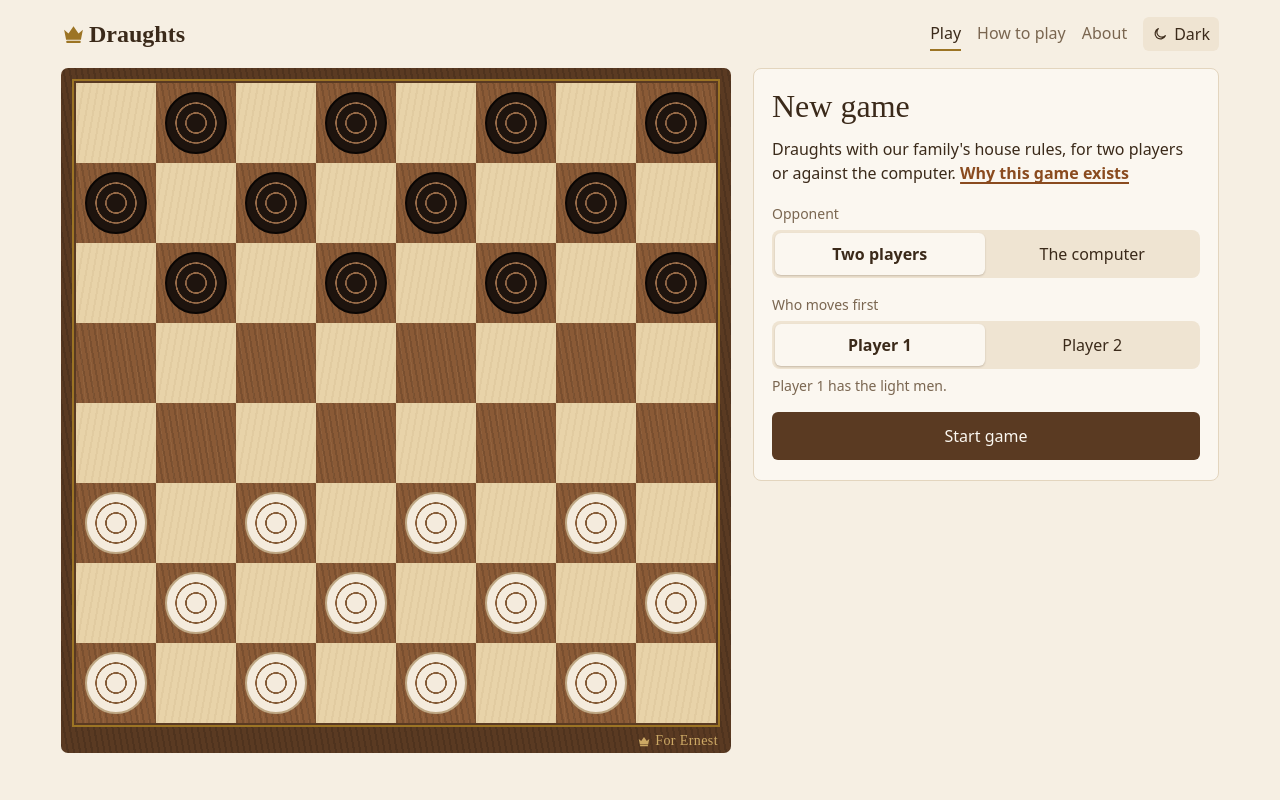
Show tips › removes the tips when the turn ends
The width and height of the screenshot is (1280, 800).
Click the button "Start game".
click(986, 436)  # box [772, 412, 1200, 460]
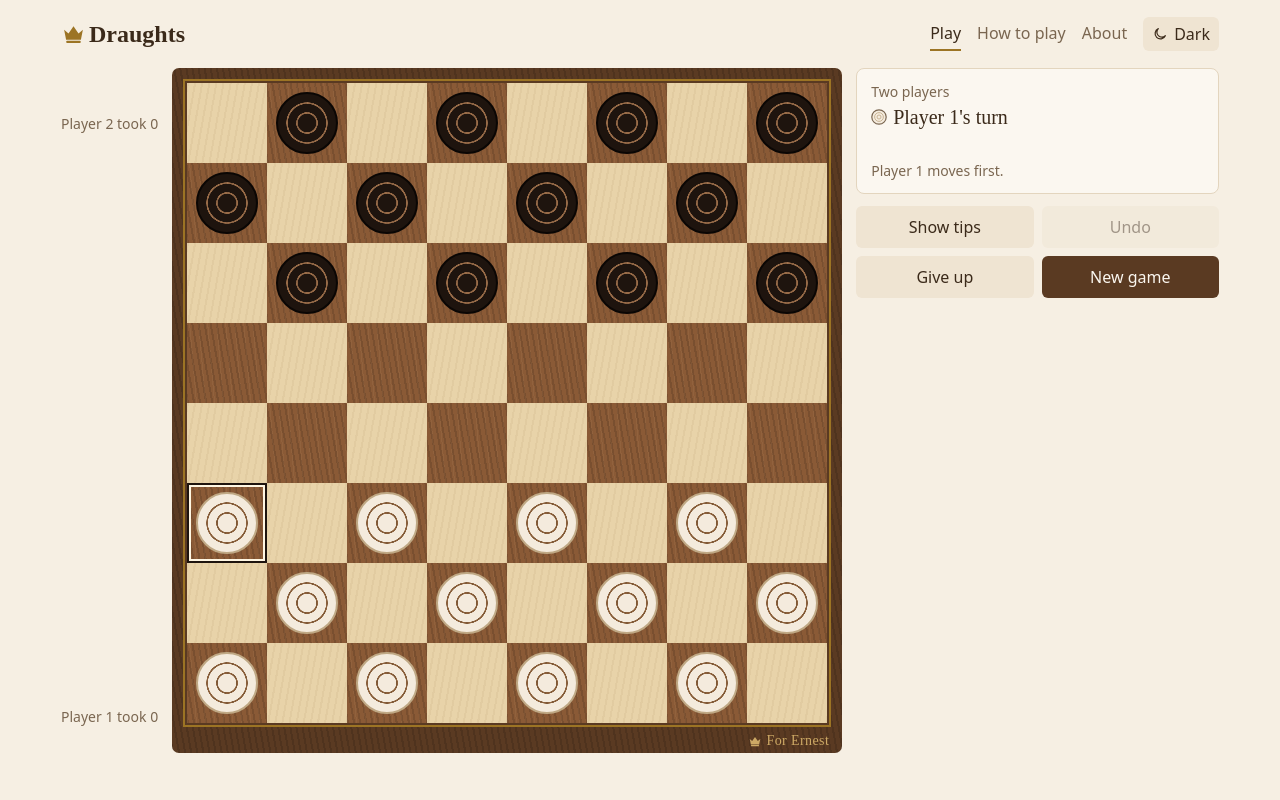
Click the button "Show tips".
click(945, 227)  # box [856, 206, 1034, 248]
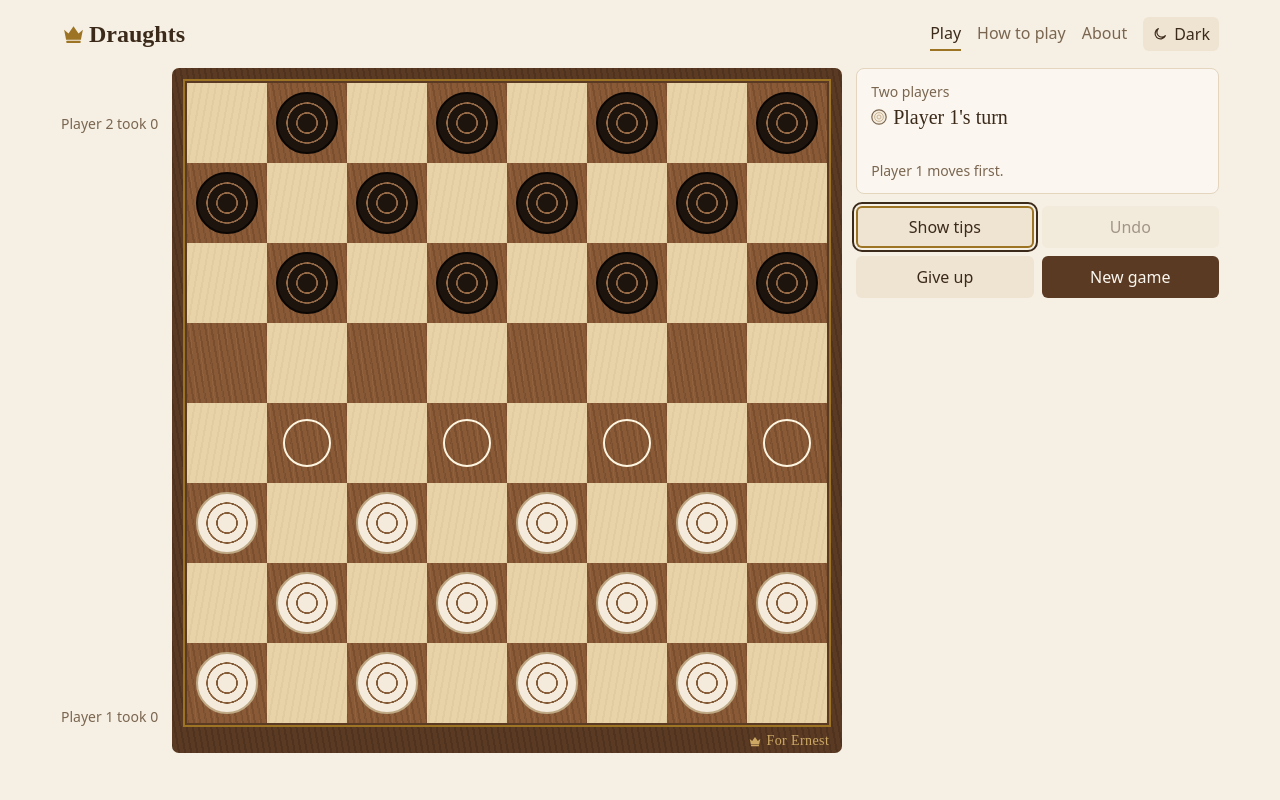
Click the cell named "Row 6, column 3, player 1's man".
click(387, 523)  # box [347, 483, 427, 563]
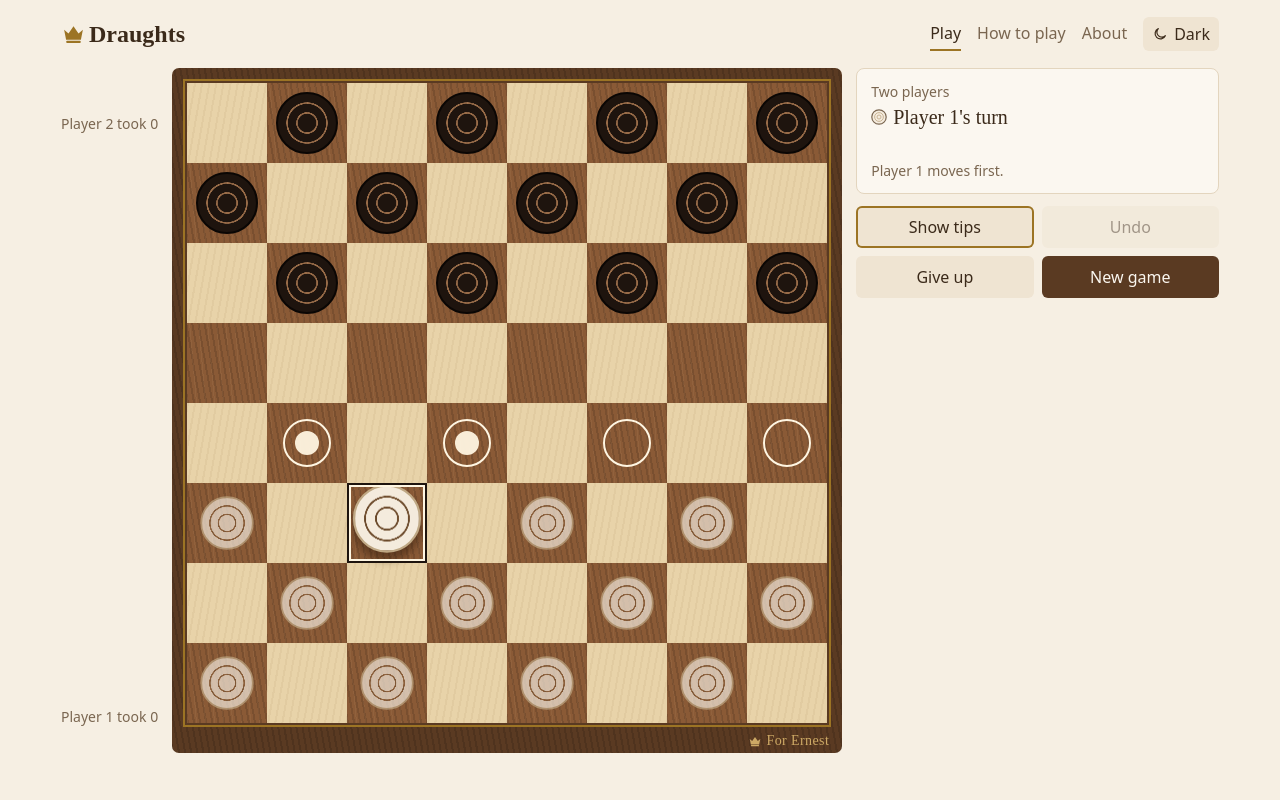
Click the cell named "Row 5, column 4, empty, target, tip".
click(467, 443)  # box [427, 403, 507, 483]
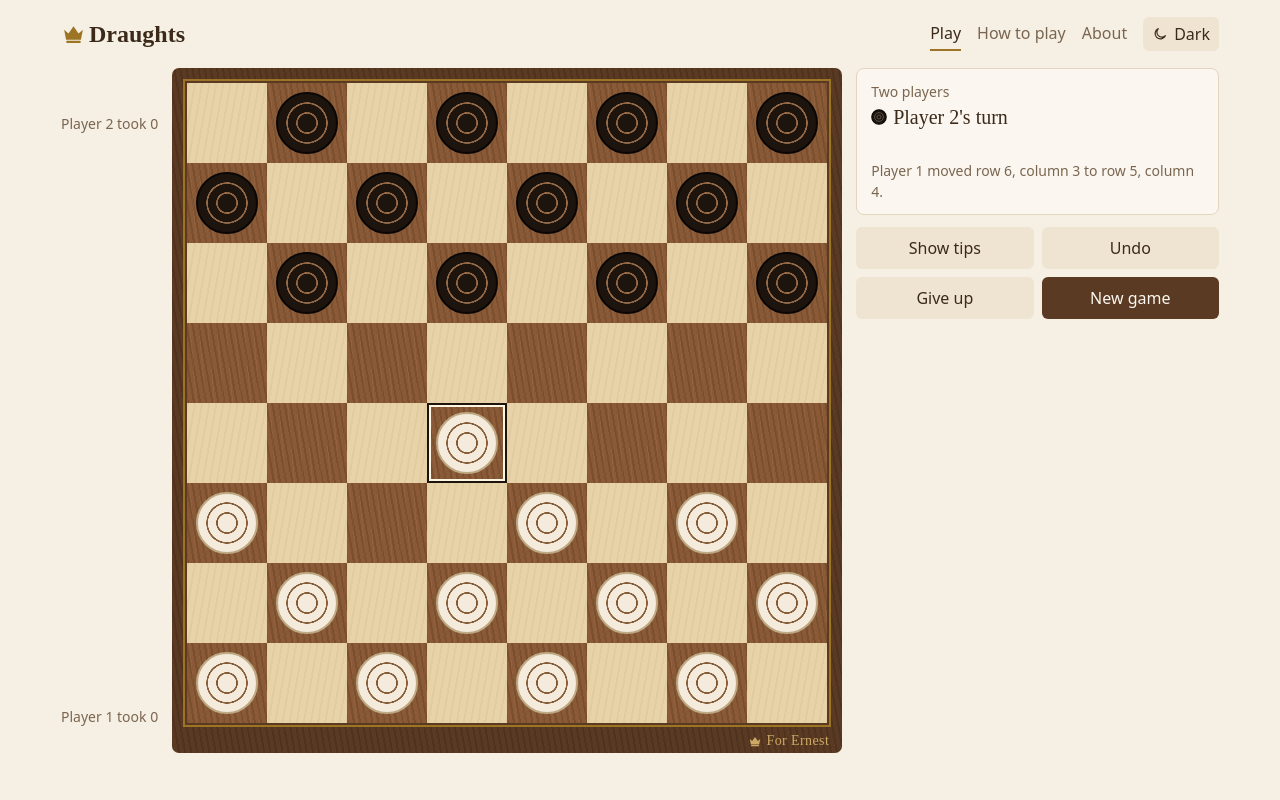
Check: no elements with test id "tip" are shown
